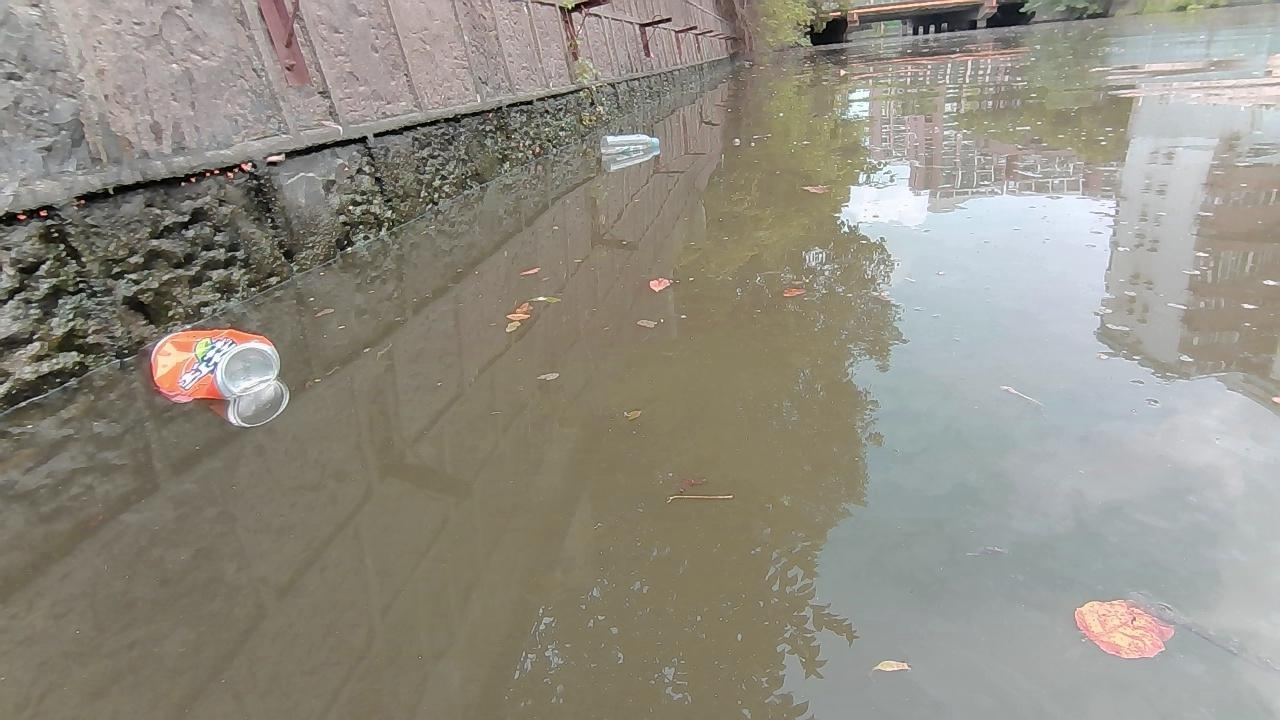Metal: (149, 327, 282, 402)
Plastic: (599, 133, 661, 154)
